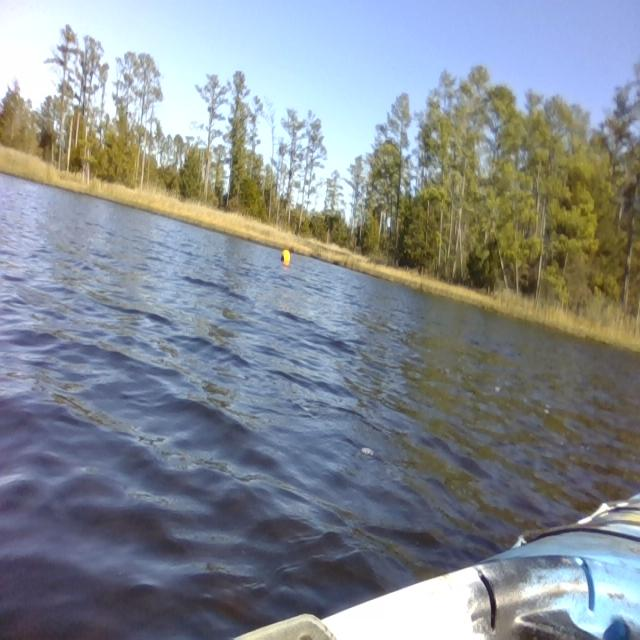Buoy: (279, 245, 294, 267)
